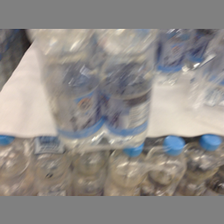water: (32, 30, 102, 150), (97, 31, 153, 150)
